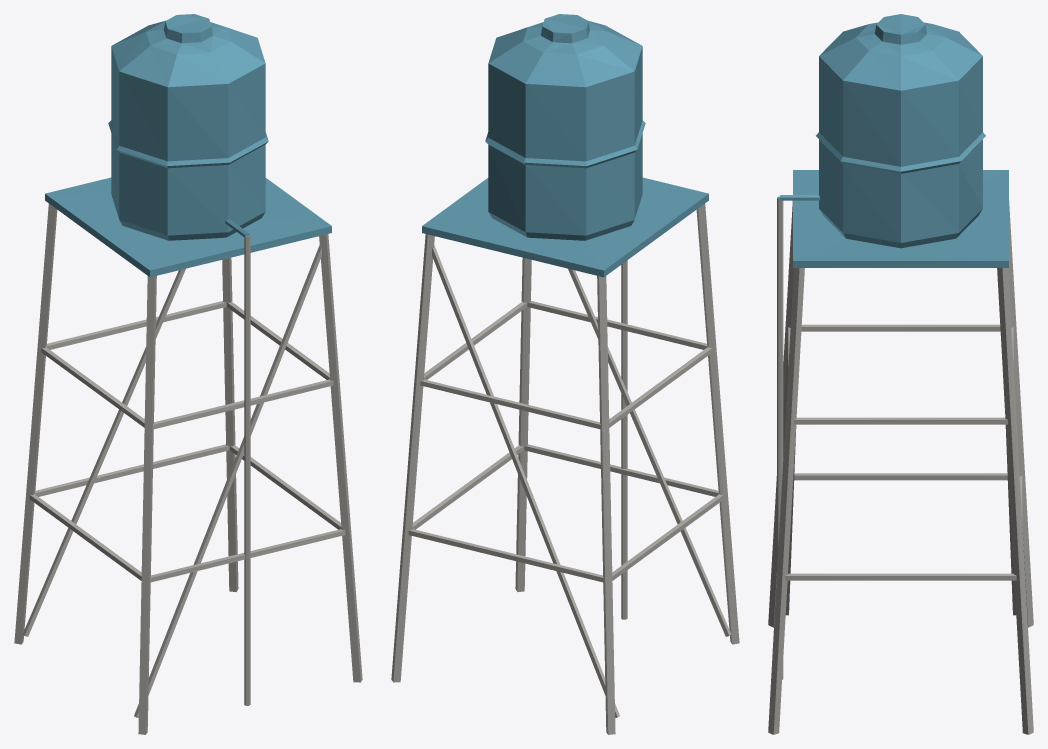
Rendered from overhead-tank-00.glb.
The picture shows the model from 3 angles, left to right: view 1: azimuth 30°, elevation 25°; view 2: azimuth 150°, elevation 25°; view 3: azimuth 270°, elevation 25°; orthographic projection. The views are drawn at different scales.
Parts seen in each view (by area): view 1: overhead_tank_00; view 2: overhead_tank_00; view 3: overhead_tank_00.
Part boxes in pixels (left/top/right/bottom): overhead_tank_00: left=14, top=14, right=362, bottom=734; overhead_tank_00: left=391, top=14, right=739, bottom=734; overhead_tank_00: left=768, top=14, right=1033, bottom=734.
Bounding box in the file's own units: 2.05 × 5.58 × 2.05.
